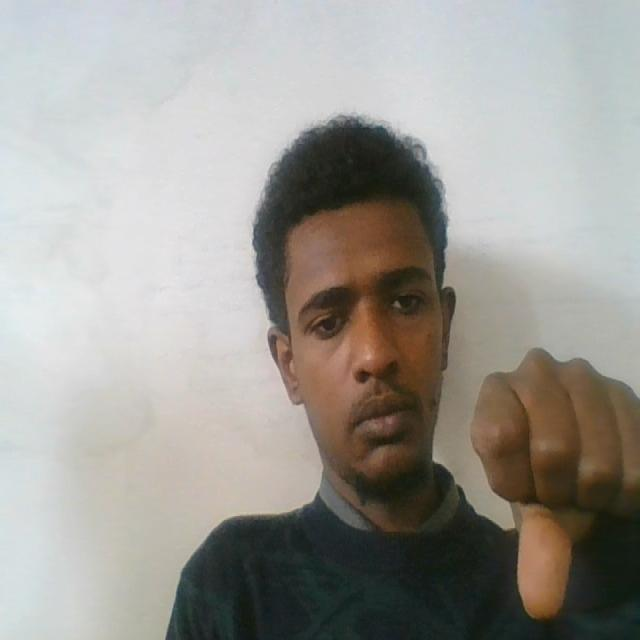yes: (468, 336, 640, 640)
